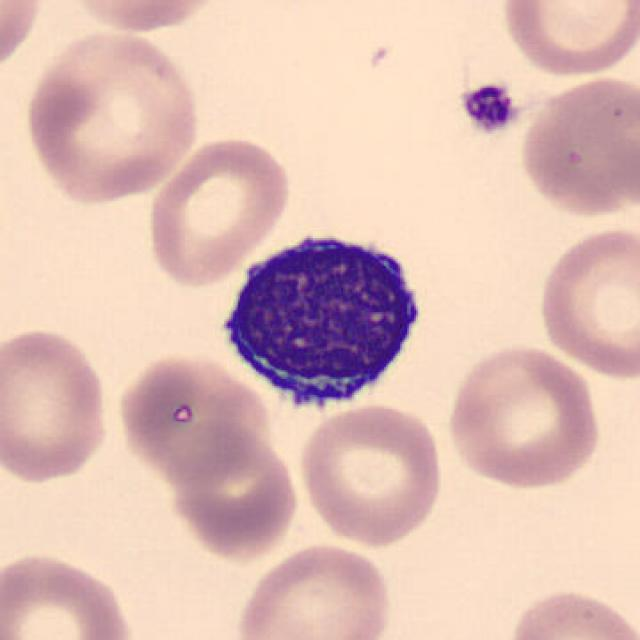Lymphocyte: (204, 215, 436, 423)
Platelets: (457, 79, 519, 136)
RBC: (19, 25, 204, 208), (443, 340, 606, 492), (142, 132, 295, 291), (295, 401, 448, 548), (112, 351, 272, 486), (165, 423, 302, 564), (0, 322, 116, 487), (516, 72, 638, 220), (533, 222, 640, 383), (231, 539, 396, 640), (0, 548, 139, 640), (498, 0, 638, 81), (501, 583, 638, 640), (57, 0, 231, 37), (0, 0, 48, 85)
